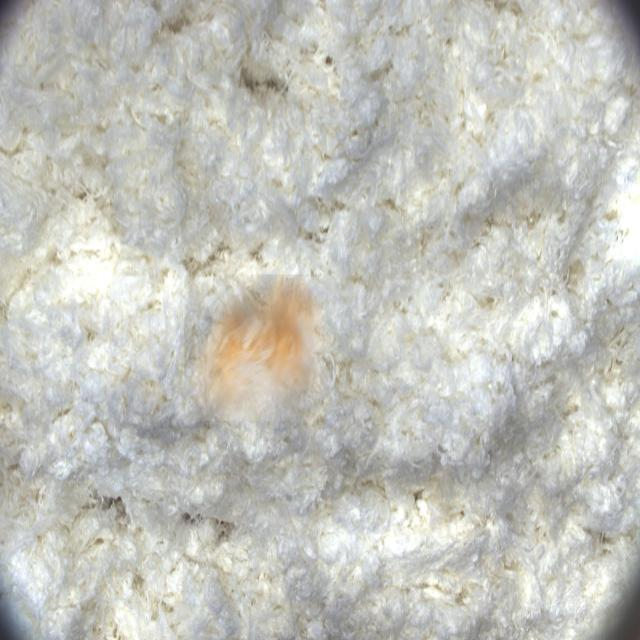dust: (185, 274, 325, 421)
